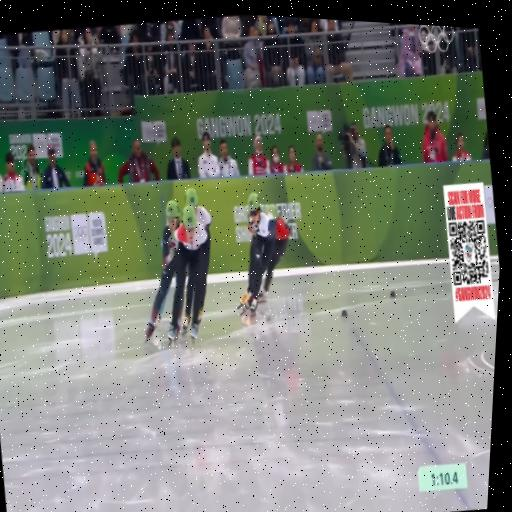Skater: (168, 205, 208, 341), (146, 201, 181, 341), (182, 188, 212, 333), (242, 193, 275, 314), (258, 204, 290, 299)
